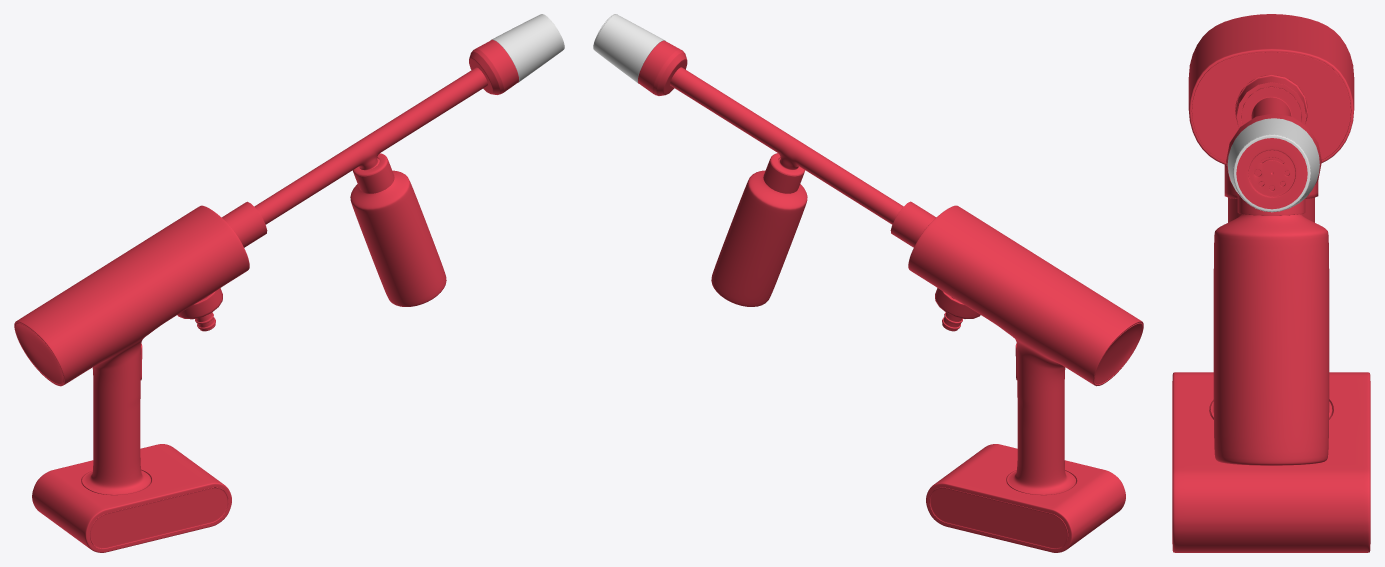
Rendered from powerawasher.fbx.
3 renders of one model, left to right at view 1: azimuth 30°, elevation 25°; view 2: azimuth 150°, elevation 25°; view 3: azimuth 270°, elevation 25°, orthographic. The views are drawn at different scales.
Parts seen in each view (by area): view 1: washer; view 2: washer; view 3: washer.
Part boxes in pixels (x1,y1,x2,y2): washer: (14, 14, 564, 552); washer: (593, 14, 1143, 552); washer: (1172, 14, 1370, 552).
Size of the model in its own units: 0.5025 by 0.3659 by 0.0895.
